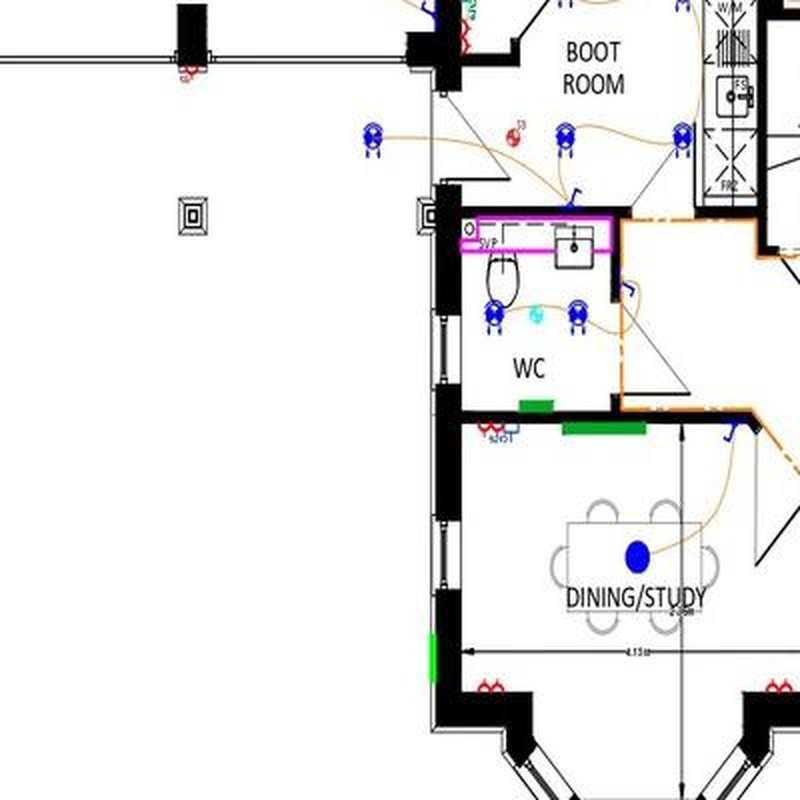Ceiling Mounted Continuous Extract FanWith Boost Mode Activated By Light Switch: (530, 305, 544, 322)
Ceiling Mounted Continuous Extract FanWith Local Boost Switch: (507, 119, 527, 148)
Double Socket: (478, 422, 505, 438), (460, 20, 473, 52), (766, 679, 794, 692), (479, 679, 504, 692)
Fused spur: (181, 66, 199, 84)
Gas Meter Box: (429, 633, 437, 683)
Light Switch: (723, 424, 738, 443), (620, 279, 635, 298), (567, 188, 582, 205), (418, 1, 433, 16)
Low Energy Downlighter: (567, 299, 589, 335), (362, 123, 384, 158), (484, 300, 505, 336), (673, 123, 694, 158), (556, 122, 576, 158)
Low Energy Pendant Light: (626, 541, 651, 574)
Radiator: (562, 422, 647, 434), (519, 400, 554, 412)
